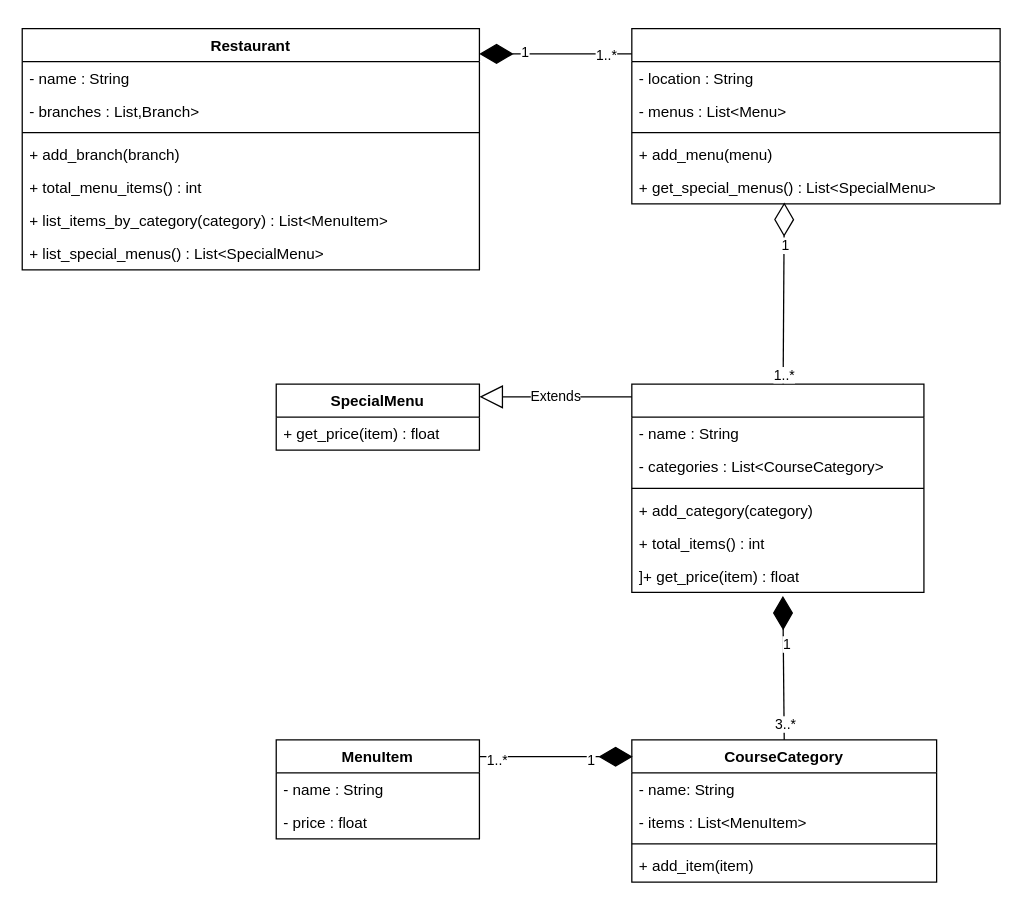
Image size: 1022x908. Some labels were removed from this diagram. The shapes that lost their labels are listed below. From the top down, each one's box as (x1, y1, x2, y2) in pixels, then its label:
(631, 27, 1000, 204): Branch
(631, 383, 924, 592): Menu
